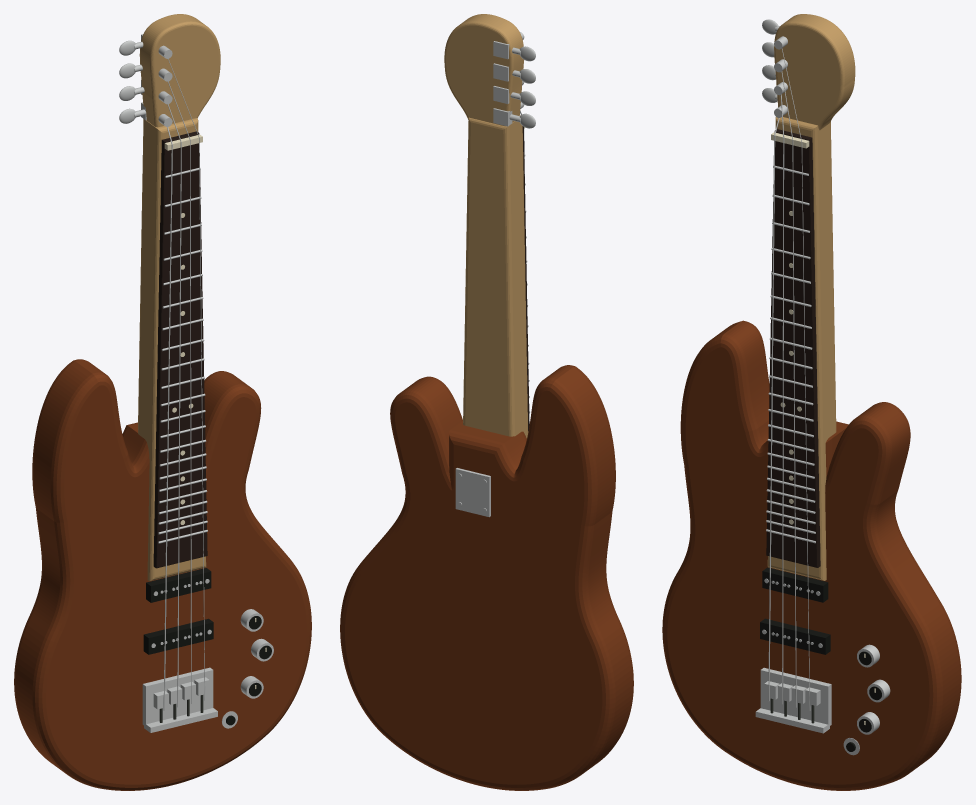
The model's file is bass-guitar.glb.
The picture shows the model from 3 angles, left to right: view 1: azimuth 30°, elevation 25°; view 2: azimuth 150°, elevation 25°; view 3: azimuth 330°, elevation 25°; orthographic projection.
Parts seen in each view (by area): view 1: Contoured double-cutaway body, Rosewood fingerboard, Maple neck, Unbranded headstock, Single-coil pickup (×2), Bridge plate, String 1, String 2, String 3, Bridge tail, String 4; view 2: Contoured double-cutaway body, Maple neck, Unbranded headstock, Rear neck plate, Rosewood fingerboard; view 3: Contoured double-cutaway body, Rosewood fingerboard, Maple neck, Unbranded headstock, Single-coil pickup (×2), Bridge plate, String 1, String 2, String 3, String 4, Bridge tail.
Boxes of the visible parts, bbox=[...] form: Contoured double-cutaway body: bbox=[14, 359, 311, 790]; Rosewood fingerboard: bbox=[153, 131, 207, 568]; Maple neck: bbox=[138, 118, 206, 581]; Unbranded headstock: bbox=[139, 14, 220, 127]; Single-coil pickup (×2): bbox=[143, 568, 213, 654]; Bridge plate: bbox=[142, 667, 213, 725]; String 1: bbox=[163, 144, 172, 710]; String 2: bbox=[177, 142, 181, 707]; String 3: bbox=[190, 140, 191, 703]; Bridge tail: bbox=[144, 708, 217, 732]; String 4: bbox=[199, 138, 205, 700]; Contoured double-cutaway body: bbox=[340, 365, 633, 790]; Maple neck: bbox=[463, 115, 528, 438]; Unbranded headstock: bbox=[444, 14, 523, 126]; Rear neck plate: bbox=[455, 468, 490, 517]; Rosewood fingerboard: bbox=[522, 126, 529, 431]; Contoured double-cutaway body: bbox=[662, 320, 961, 790]; Rosewood fingerboard: bbox=[766, 129, 820, 567]; Maple neck: bbox=[767, 117, 836, 580]; Unbranded headstock: bbox=[774, 14, 855, 130]; Single-coil pickup (×2): bbox=[760, 567, 830, 654]; Bridge plate: bbox=[760, 667, 831, 726]; String 1: bbox=[768, 135, 775, 700]; String 2: bbox=[782, 137, 784, 704]; String 3: bbox=[792, 140, 796, 707]; String 4: bbox=[801, 142, 810, 710]; Bridge tail: bbox=[755, 708, 829, 733].
Bounding box in the file's own units: 2.44 × 6.38 × 0.5934.
